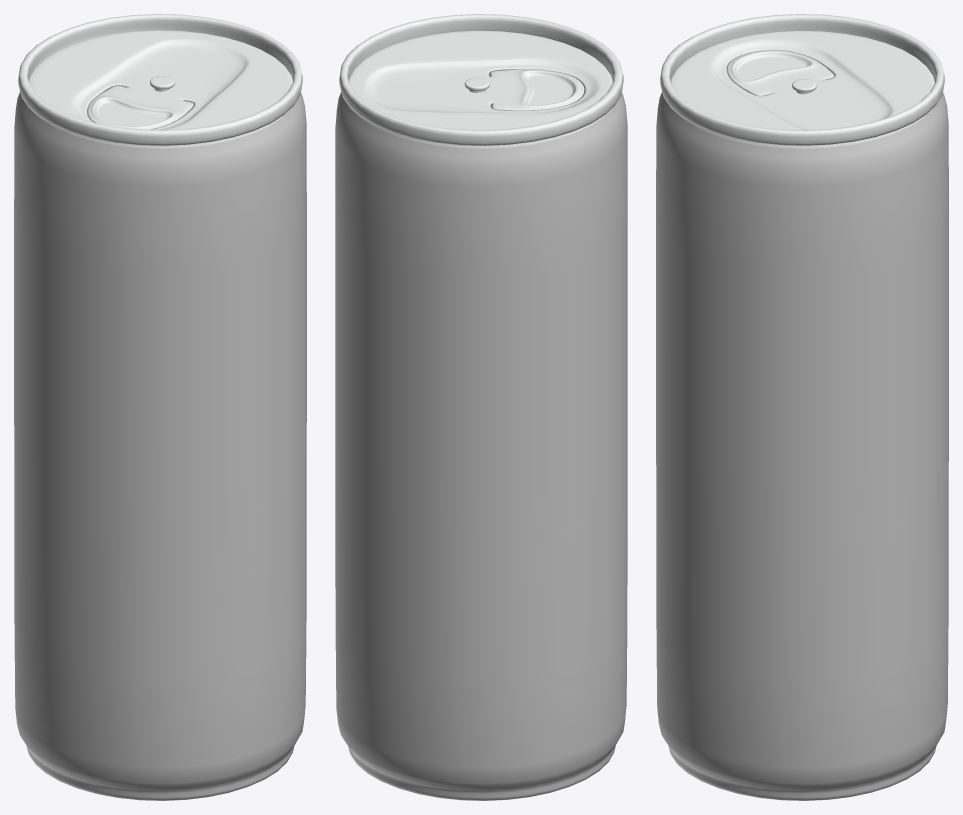
Rendered from Key frames2.glb.
3 views of the same model, side by side, from view 1: azimuth 30°, elevation 25°; view 2: azimuth 150°, elevation 25°; view 3: azimuth 270°, elevation 25° (orthographic).
Visible parts, largest first — view 1: aluminium can 250 ml.003; view 2: aluminium can 250 ml.003; view 3: aluminium can 250 ml.003.
Boxes of the visible parts, x1,y1,x2,y2 form: aluminium can 250 ml.003: [14, 14, 306, 800]; aluminium can 250 ml.003: [335, 14, 627, 800]; aluminium can 250 ml.003: [656, 14, 948, 800].
Bounding box in the file's own units: 0.0593 × 0.1505 × 0.0594.
Materials: 2 (1 with a texture image).
